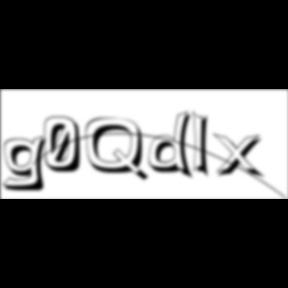0: (44, 115, 88, 174)
Q: (86, 117, 152, 184)
d: (149, 110, 199, 182)
g: (2, 134, 54, 194)
l: (192, 108, 216, 182)
x: (214, 132, 268, 181)
